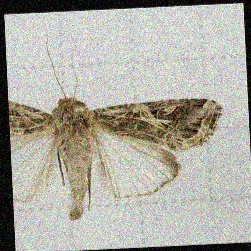Spodoptera litura: (9, 24, 224, 218)
